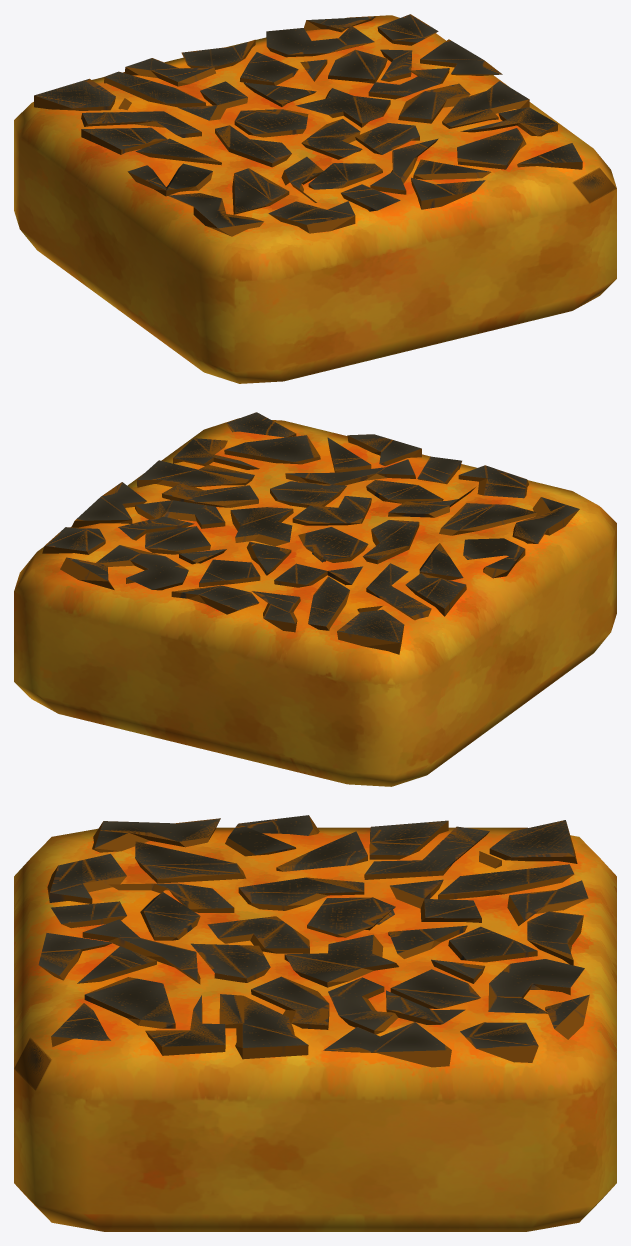
The model's file is smCubeLava1.fbx.
The picture shows the model from 3 angles, top to bottom: view 1: azimuth 30°, elevation 25°; view 2: azimuth 150°, elevation 25°; view 3: azimuth 270°, elevation 25°; orthographic projection. The views are drawn at different scales.
Parts seen in each view (by area): view 1: smCubeLava; view 2: smCubeLava; view 3: smCubeLava.
Part boxes in pixels (x1,y1,x2,y2): smCubeLava: (14,14,616,383); smCubeLava: (14,412,616,786); smCubeLava: (14,815,616,1231).
Size of the model in its own units: 156 by 53.75 by 156.
